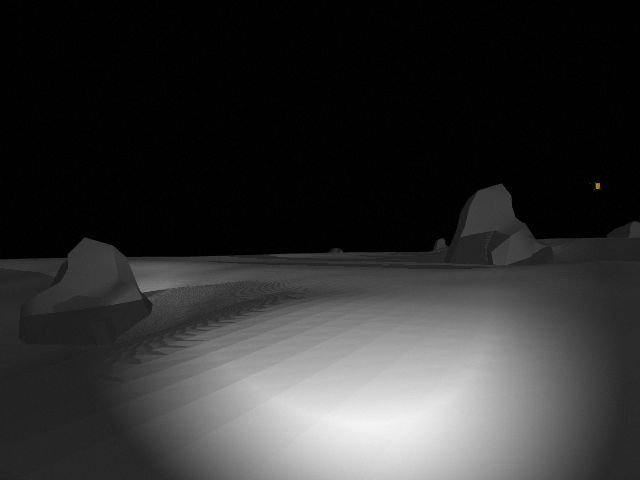cubesat: (592, 182, 604, 193)
